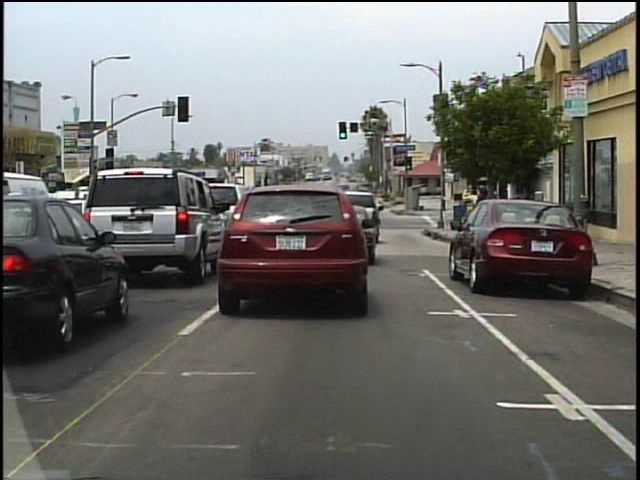person: (470, 195, 483, 242)
